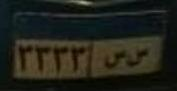3: (17, 44, 34, 70), (35, 44, 51, 71), (70, 46, 87, 70), (53, 46, 69, 71)
seen: (126, 46, 149, 69), (105, 50, 126, 70)
